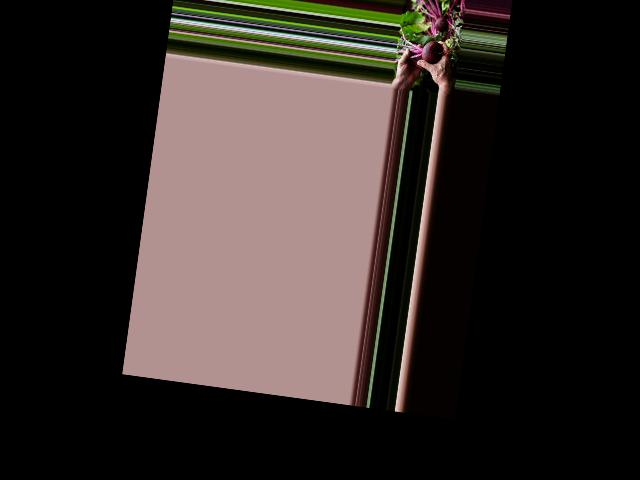beet: (395, 24, 446, 66)
